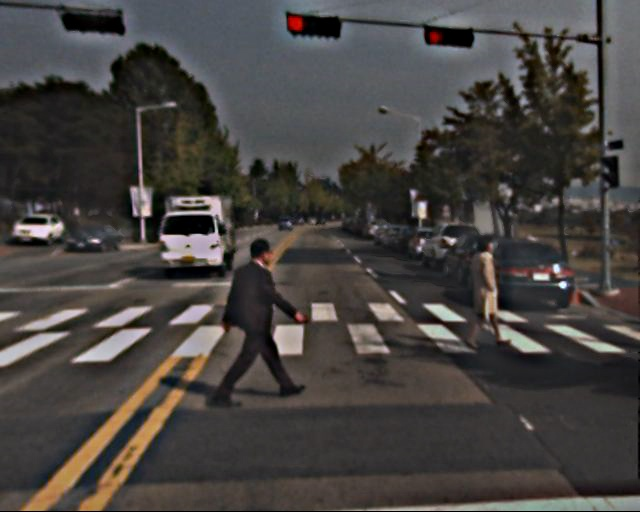person: (218, 238, 286, 405), (462, 237, 509, 351)
